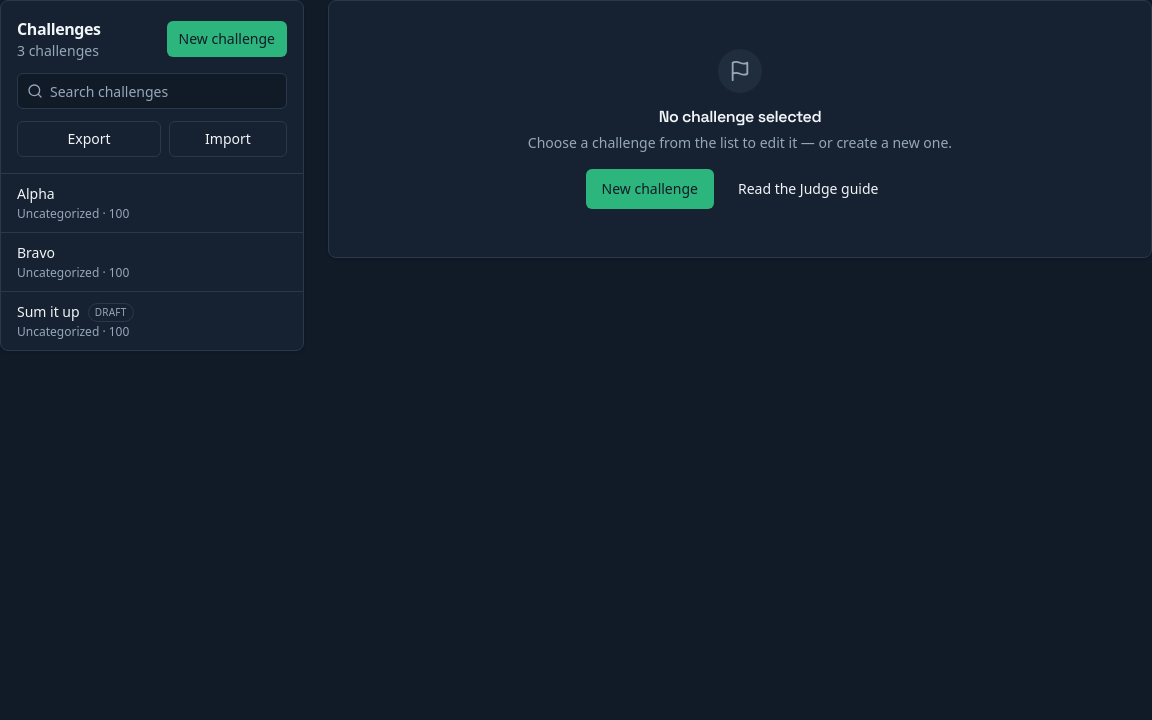
Test: ChallengeAdmin master-detail editor › shows the select prompt until a challenge is chosen
The width and height of the screenshot is (1152, 720).
Expected: the field labelled "Title" is not shown
Click the button "Alpha Uncategorized · 100": click(36, 194) x1=1 y1=174 x2=303 y2=232
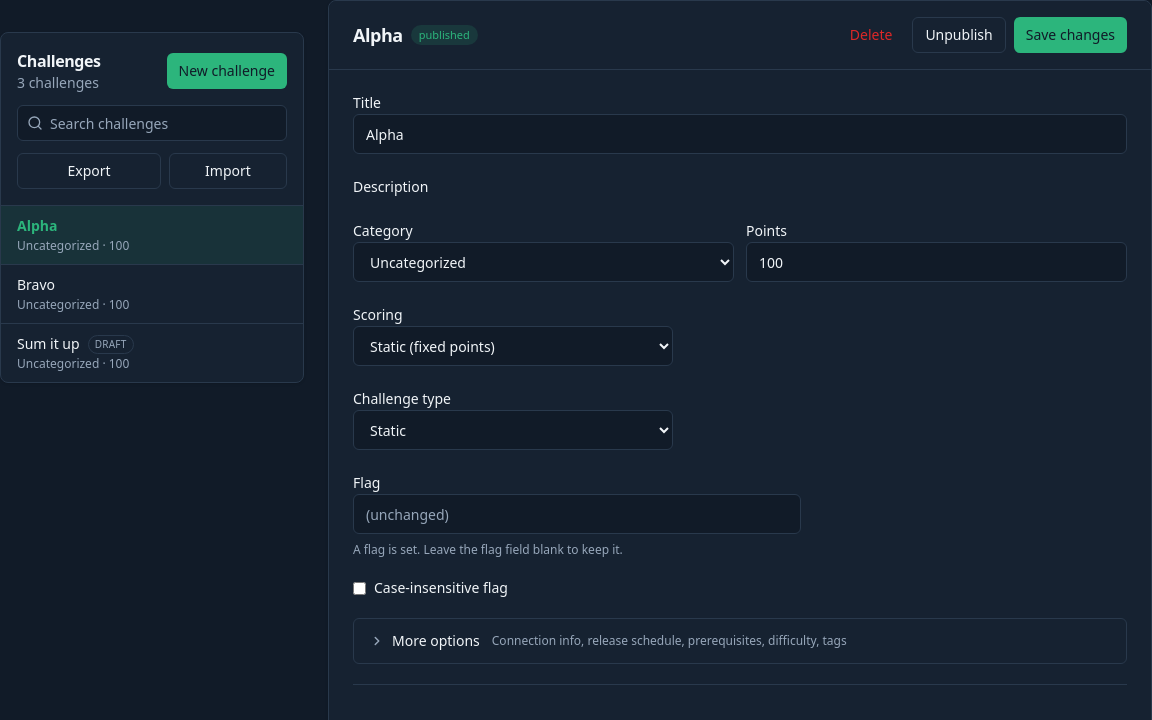
Expected: the field labelled "Title" holds "Alpha", x1=353 y1=114 x2=1127 y2=154
